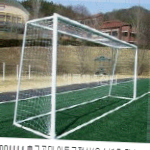goals: (13, 11, 139, 139)
